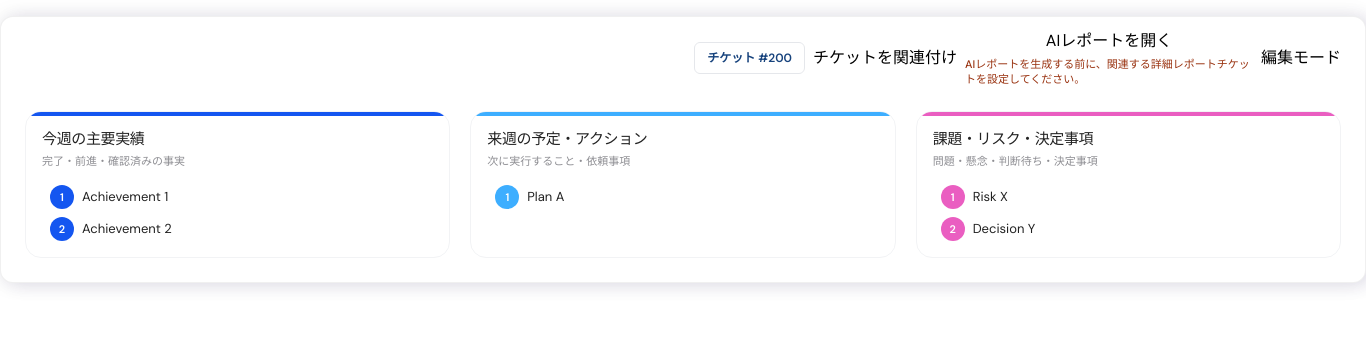
ReportDetailPanel › fetches and renders rows from API
The width and height of the screenshot is (1366, 344).
Check: the text with test id "detail-text-fact-0" reads "Achievement 1", box [82,188,168,205]
Check: the text with test id "detail-text-fact-1" reads "Achievement 2", box [82,220,172,237]
// Enter edit mode
Click the button with test id "toggle-edit-mode-btn": point(1301, 58) [1261,46,1341,70]
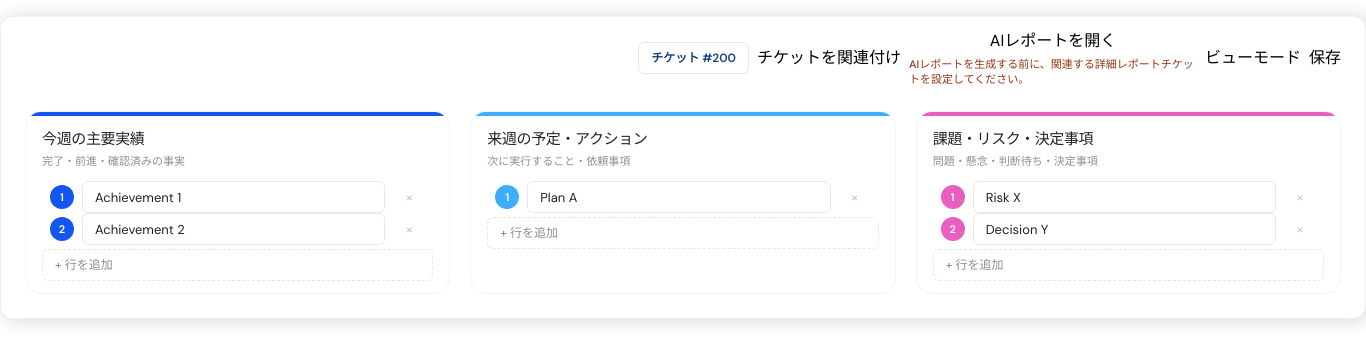
Check: the field with test id "detail-input-fact-0" holds "Achievement 1", box [82,181,385,213]
